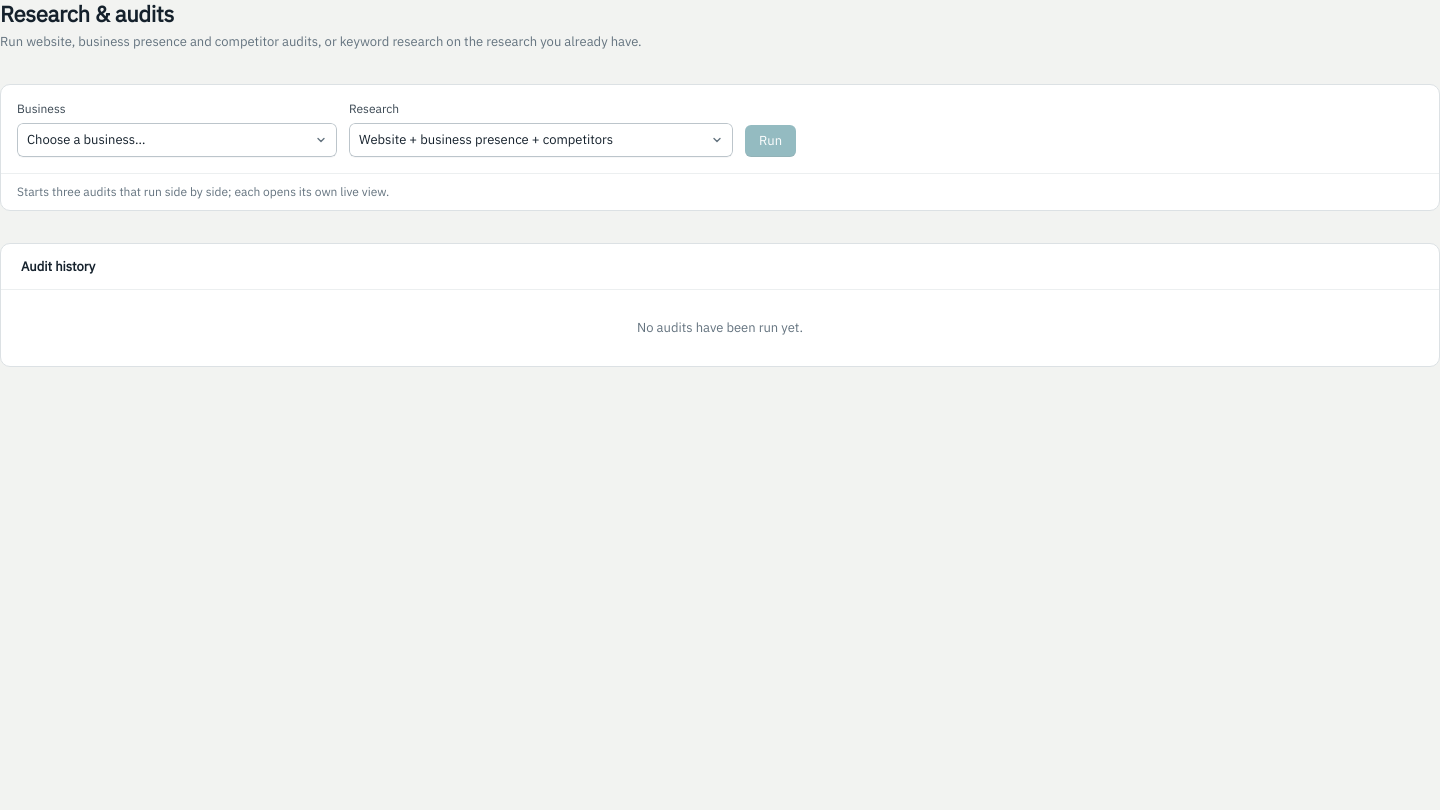
it: keyword research asks before running anything › shows what exists and starts only keyword research when reusing
Later steps or results of the test are not shown.
Select "Northside Plumbing (Northside)" in the dropdown labelled "Business": [177, 140] box [17, 123, 337, 157]
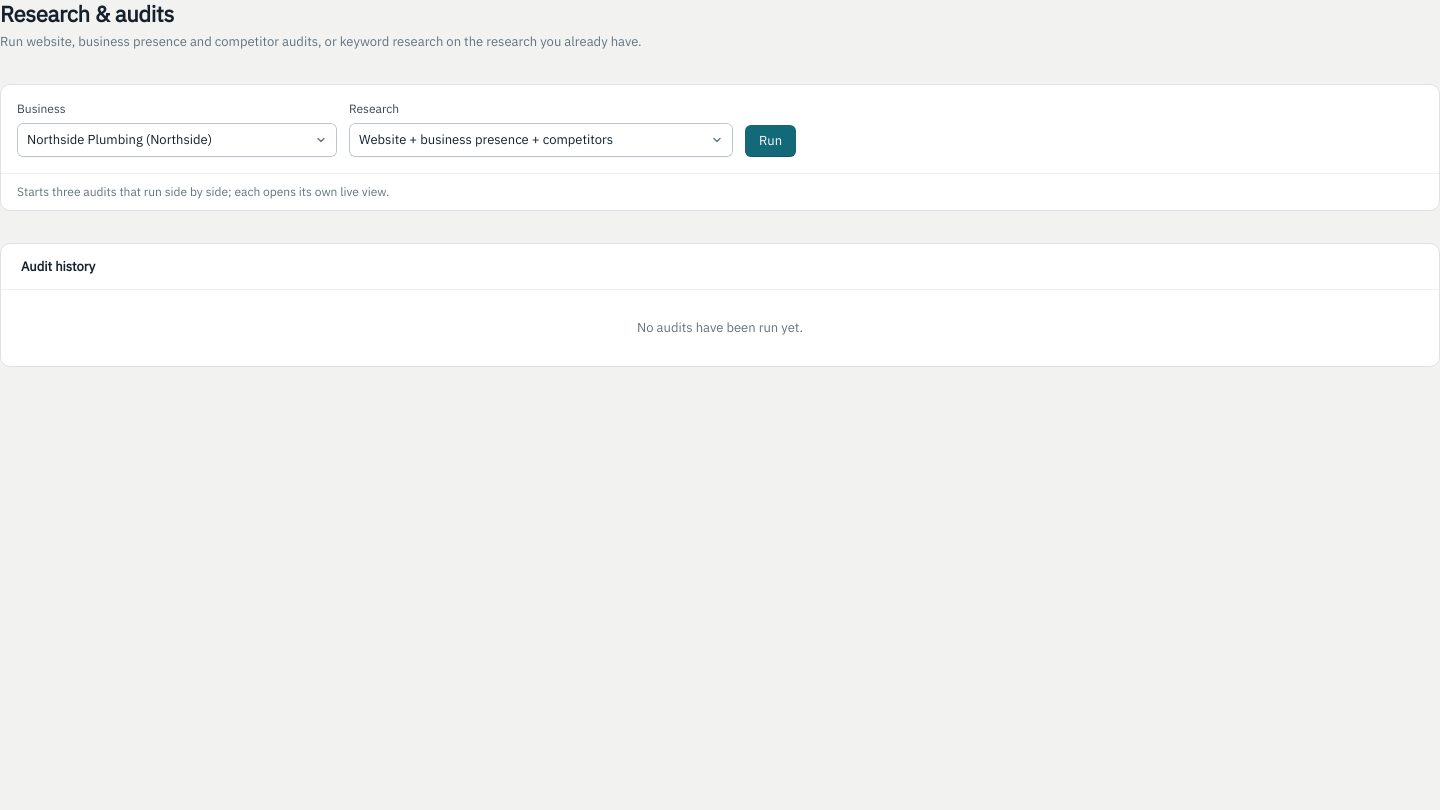
Select "Keyword research…" in the dropdown named "Audit type": [541, 140] box [349, 123, 733, 157]
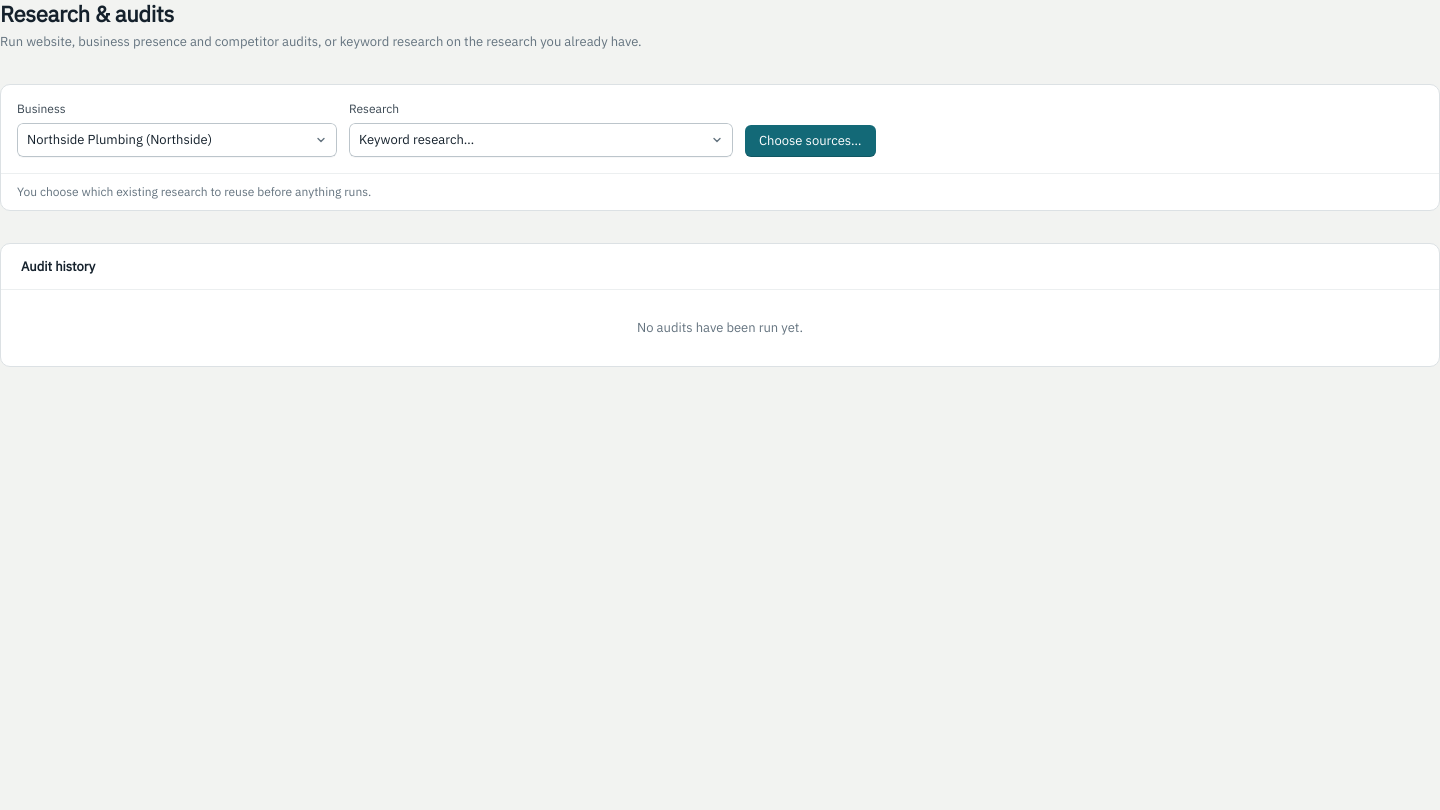
Click the button "Choose sources…": [810, 141] box [745, 125, 876, 157]
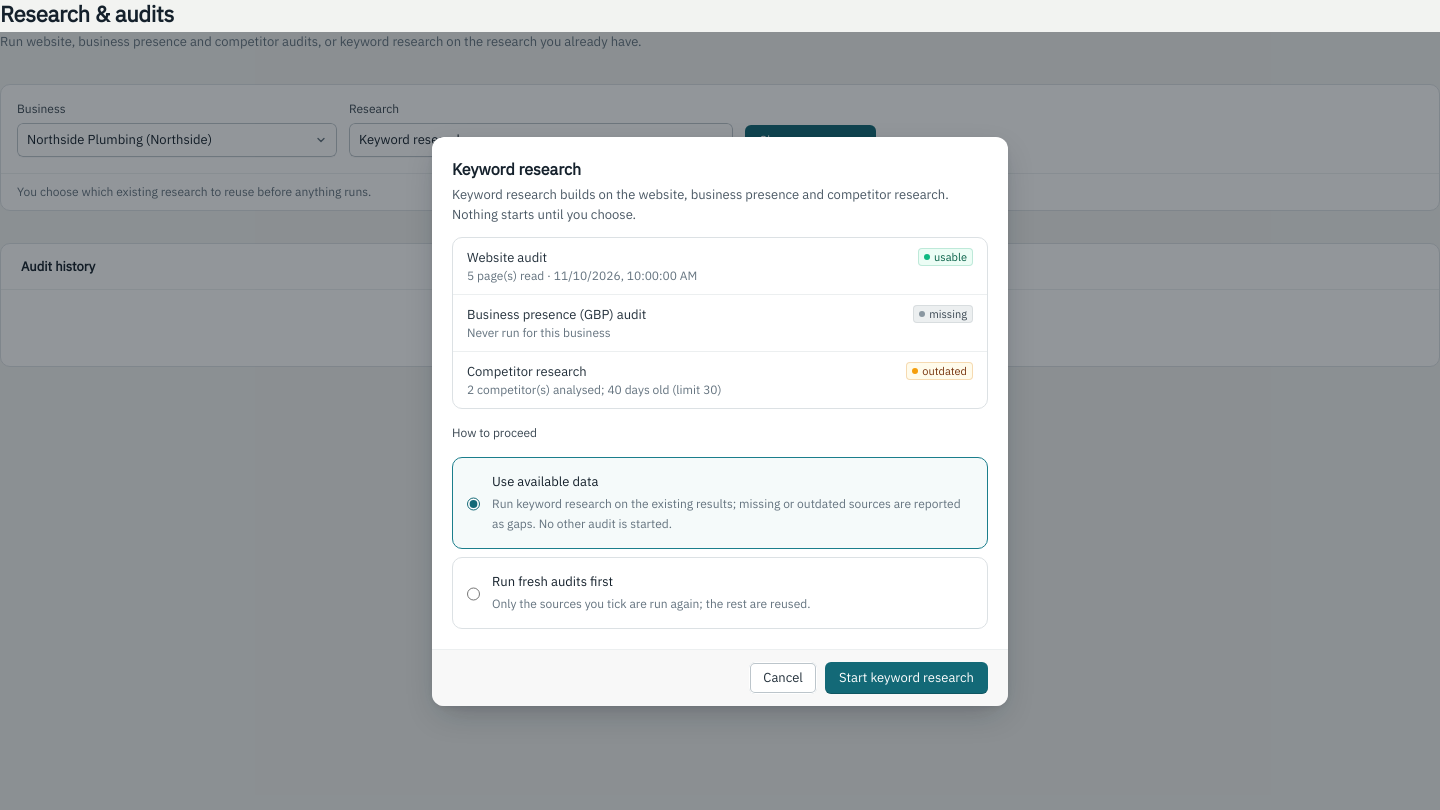
Expected: the text "Never run for this business" is shown, [467, 324, 611, 340]
